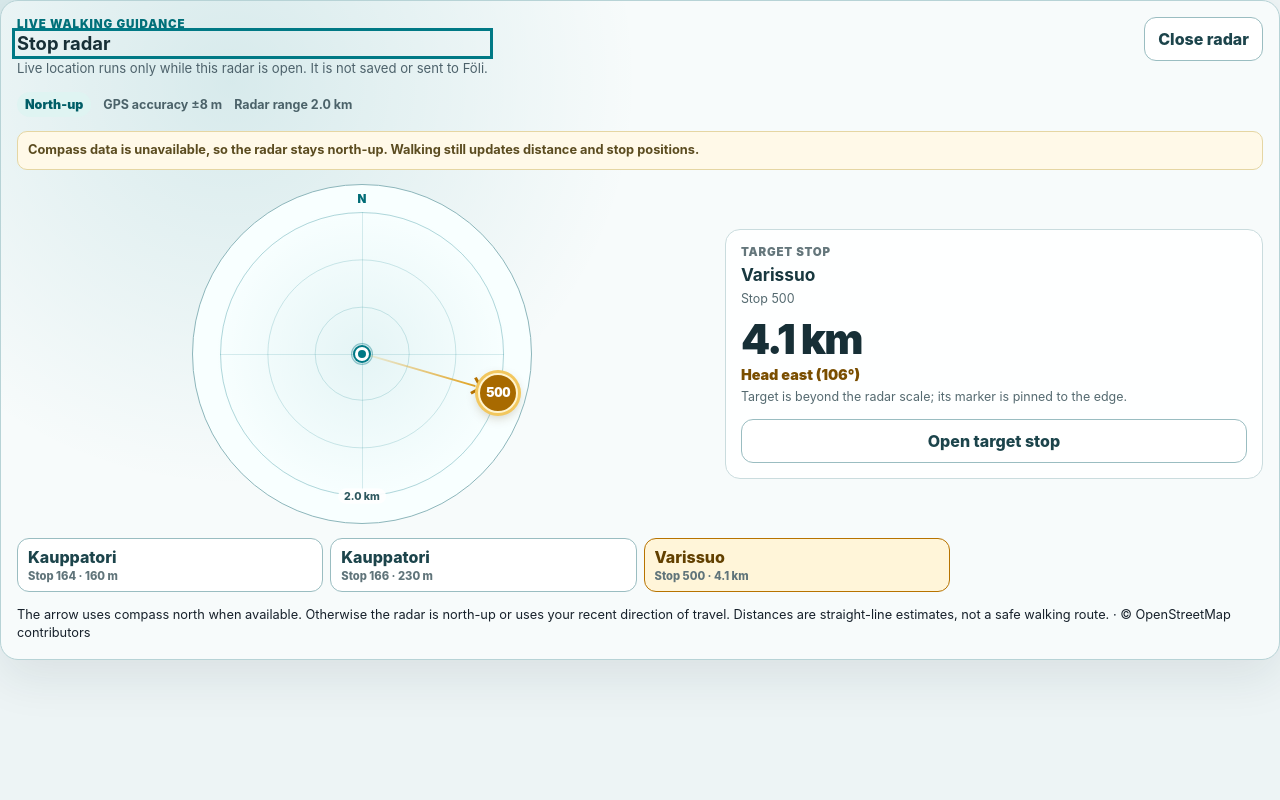
Test: choosing a nearer target sets the scale for it at once
The width and height of the screenshot is (1280, 800).
Expected: the text "Radar range 2.0 km" is shown, [234,97,352,112]
Click the button "Kauppatori Stop 164 · 160 m": click(72, 557) [17,538,323,592]
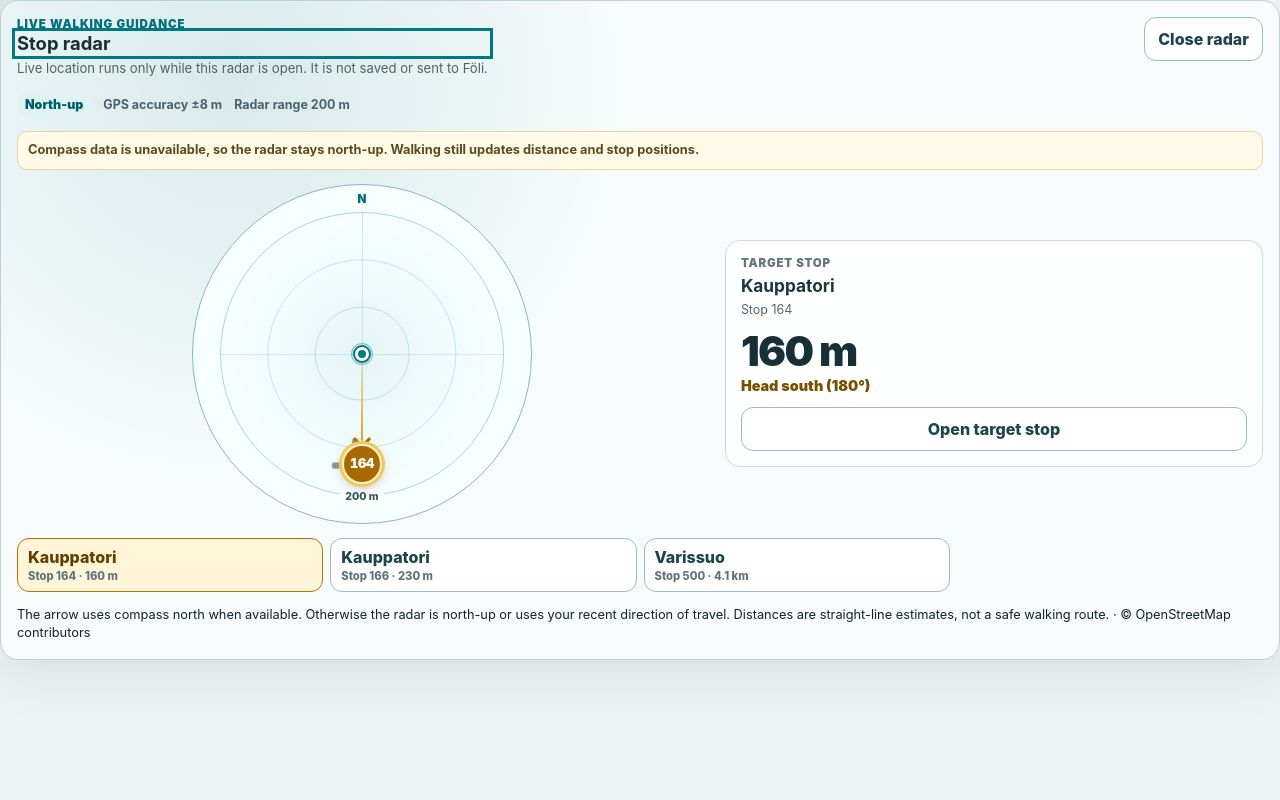
Expected: the text "Radar range 200 m" is shown, [234,97,350,112]
